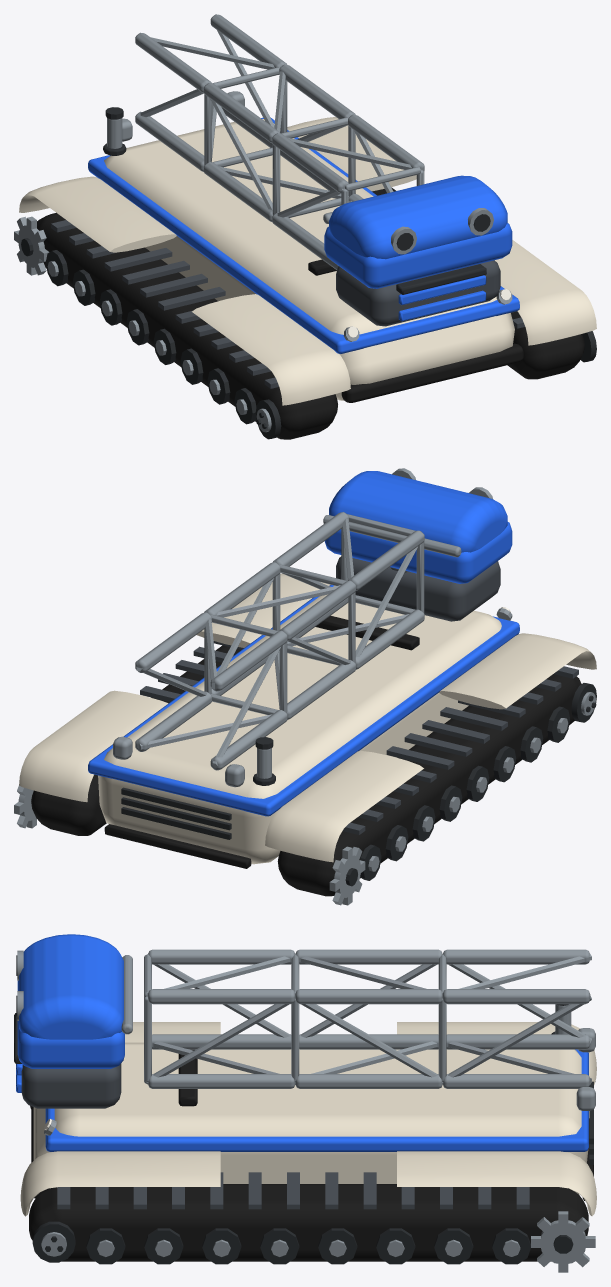
The model's file is construction_truck.glb.
3 views of the same model, one above another, from view 1: azimuth 30°, elevation 25°; view 2: azimuth 150°, elevation 25°; view 3: azimuth 270°, elevation 25° (orthographic). The views are drawn at different scales.
Parts seen in each view (by area): view 1: hull__M_CreamPlastic, ct_mast_body__M_SpringSteel, cab_head__M_Team, gear__M_Licorice, hull__M_Team, tread_r__M_SmokePlastic, gear__M_Dark, hull__M_SmokePlastic, hull__M_Licorice, sprocket_r__M_SpringSteel, gear__M_SpringSteel, hull__M_Dark (+3 smaller); view 2: hull__M_CreamPlastic, ct_mast_body__M_SpringSteel, gear__M_Licorice, cab_head__M_Team, hull__M_Team, tread_r__M_SmokePlastic, hull__M_SmokePlastic, gear__M_Dark, hull__M_Licorice, hull__M_Dark, cab_head__M_SpringSteel, sprocket_r__M_SpringSteel (+5 smaller); view 3: hull__M_CreamPlastic, ct_mast_body__M_SpringSteel, gear__M_Licorice, cab_head__M_Team, hull__M_Team, gear__M_Dark, tread_l__M_SmokePlastic, hull__M_SmokePlastic, sprocket_l__M_SpringSteel, gear__M_SpringSteel, idler_l__M_Dark, cab_head__M_SpringSteel (+3 smaller).
Part boxes in pixels (x1,y1,x2,y2): hull__M_CreamPlastic: (19,117,596,405); ct_mast_body__M_SpringSteel: (135,14,424,269); cab_head__M_Team: (324,175,512,288); gear__M_Licorice: (37,187,584,439); hull__M_Team: (88,117,519,353); tread_r__M_SmokePlastic: (51,220,279,388); gear__M_Dark: (46,250,256,424); hull__M_SmokePlastic: (336,260,500,326); hull__M_Licorice: (308,259,523,402); sprocket_r__M_SpringSteel: (14,216,49,275); gear__M_SpringSteel: (47,261,247,414); hull__M_Dark: (396,264,486,294); hull__M_CreamPlastic: (19,573,596,864); ct_mast_body__M_SpringSteel: (135,512,424,770); gear__M_Licorice: (31,645,581,896); cab_head__M_Team: (324,471,512,583); hull__M_Team: (88,585,519,816); tread_r__M_SmokePlastic: (342,666,578,834); hull__M_SmokePlastic: (336,556,500,621); gear__M_Dark: (360,706,569,880); hull__M_Licorice: (104,615,419,868); hull__M_Dark: (121,787,231,839); cab_head__M_SpringSteel: (323,468,492,557); sprocket_r__M_SpringSteel: (329,846,365,905); hull__M_CreamPlastic: (20,1022,596,1216); ct_mast_body__M_SpringSteel: (144,949,591,1088); gear__M_Licorice: (29,1106,588,1261); cab_head__M_Team: (17,934,124,1068); hull__M_Team: (16,1049,588,1151); gear__M_Dark: (86,1228,530,1264); tread_l__M_SmokePlastic: (57,1172,529,1209); hull__M_SmokePlastic: (21,1063,121,1108); sprocket_l__M_SpringSteel: (531,1211,595,1272); gear__M_SpringSteel: (97,1239,520,1256); idler_l__M_Dark: (32,1221,75,1262); cab_head__M_SpringSteel: (17,950,132,1034).
Size of the model in its own units: 1.08 by 0.6423 by 1.52.
